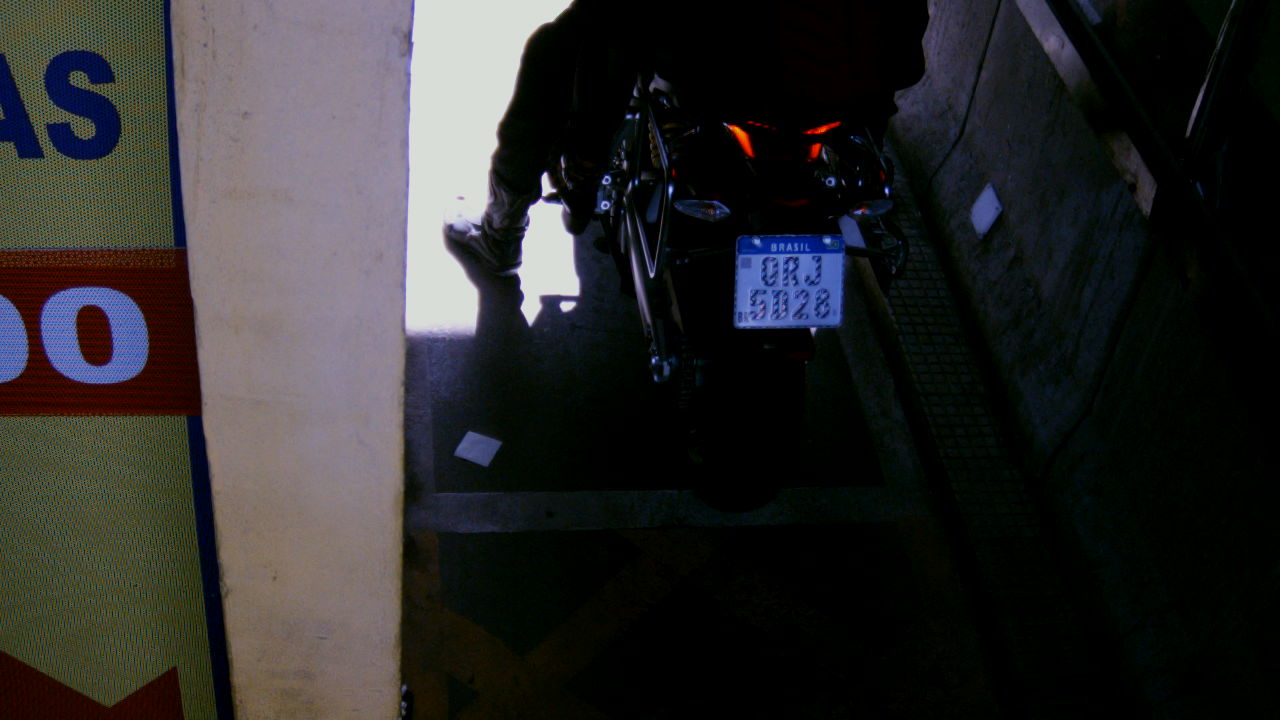placa: (734, 232, 847, 328)
